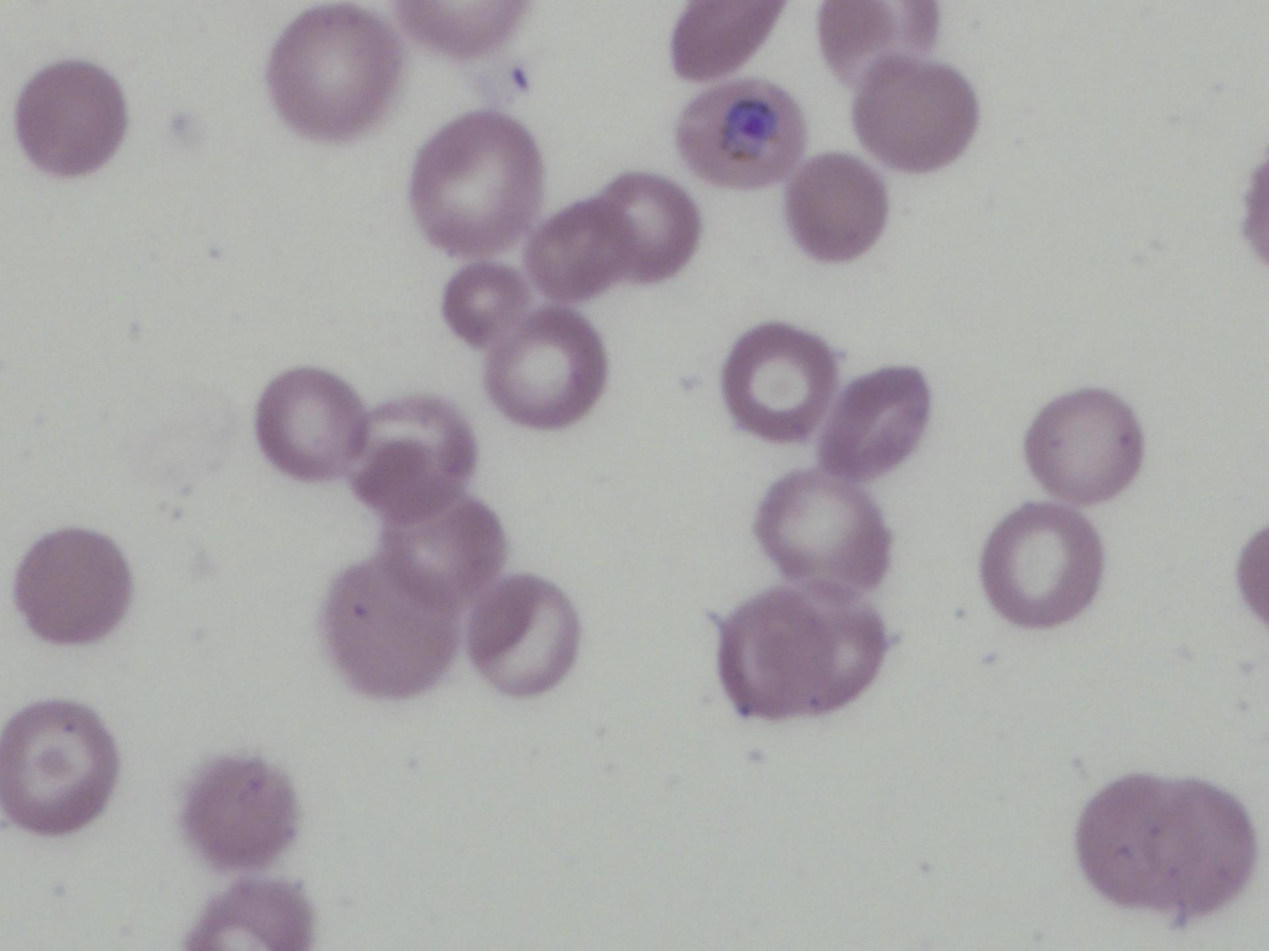Infected: (675, 78, 801, 190)
Uninfected: (1074, 773, 1245, 919), (716, 590, 884, 718), (410, 115, 546, 252), (325, 562, 460, 698), (266, 5, 395, 136), (0, 701, 118, 836), (755, 475, 890, 592), (978, 504, 1102, 627), (855, 57, 980, 172), (352, 397, 474, 514), (13, 528, 130, 644), (466, 574, 578, 695), (721, 321, 836, 437), (486, 313, 601, 427), (14, 59, 127, 175), (1023, 389, 1140, 500), (183, 754, 297, 866), (818, 368, 931, 477), (254, 367, 363, 477), (389, 496, 503, 599), (528, 196, 641, 299), (785, 153, 888, 262), (603, 172, 699, 276), (442, 260, 526, 342)
